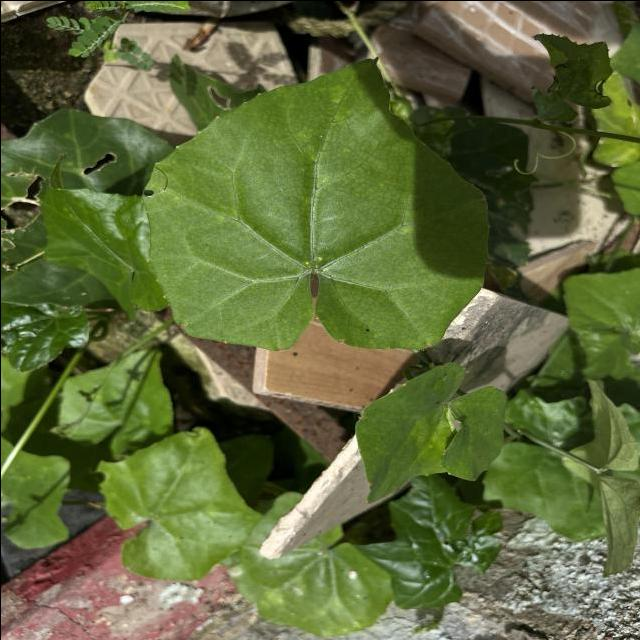Coccinia grandis: (138, 52, 490, 356)
